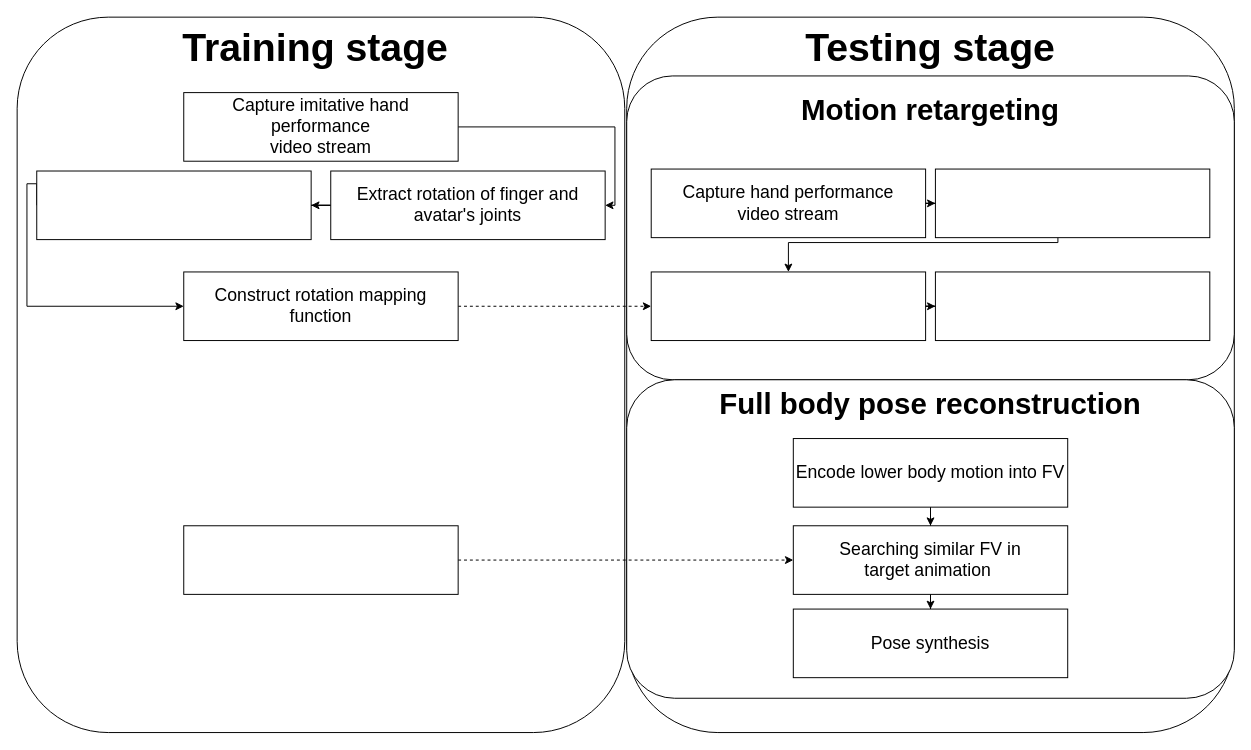
Image size: 1251x750. Some labels were removed from this diagram. Each missing label, with the centre of its shape:
Avatar joints' positions encoding: (x=320, y=559)
Compute hand joints' rotation: (x=1072, y=203)
Hand rotation maps to lower body rotation: (x=788, y=306)
Lower body rotation apply to avatar gives lower body motion: (x=1072, y=306)
Reference sequence labeling (Hand and avatar joint's rotation): (x=173, y=205)
